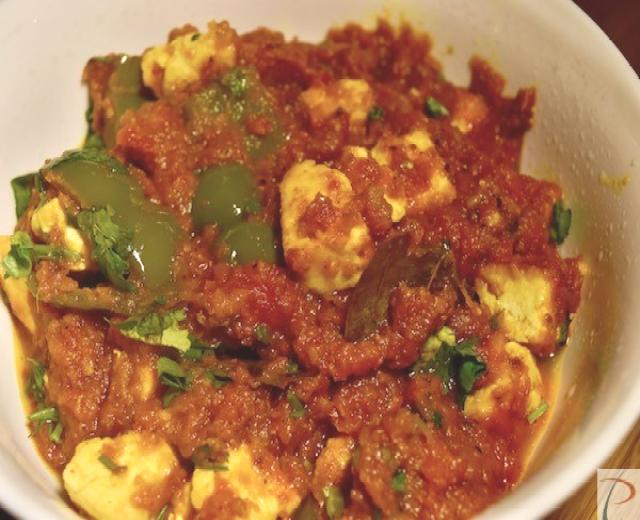kadai paneer: (1, 0, 634, 514), (0, 373, 78, 517), (420, 0, 545, 65), (561, 5, 640, 100)
